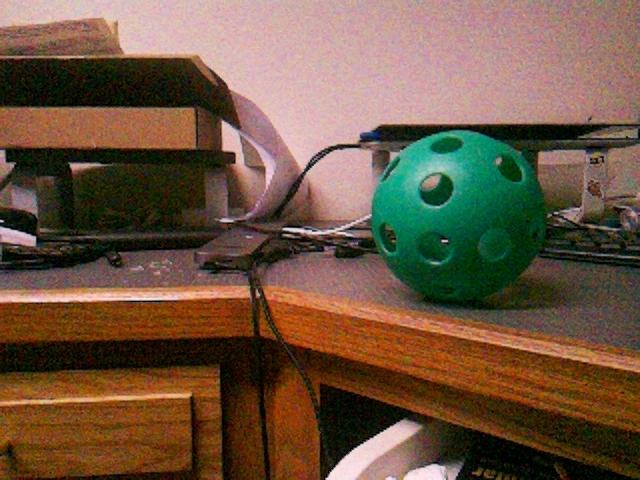Green: (368, 130, 547, 303)
